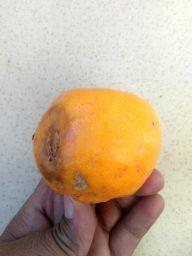Unripe: (30, 89, 158, 201)
